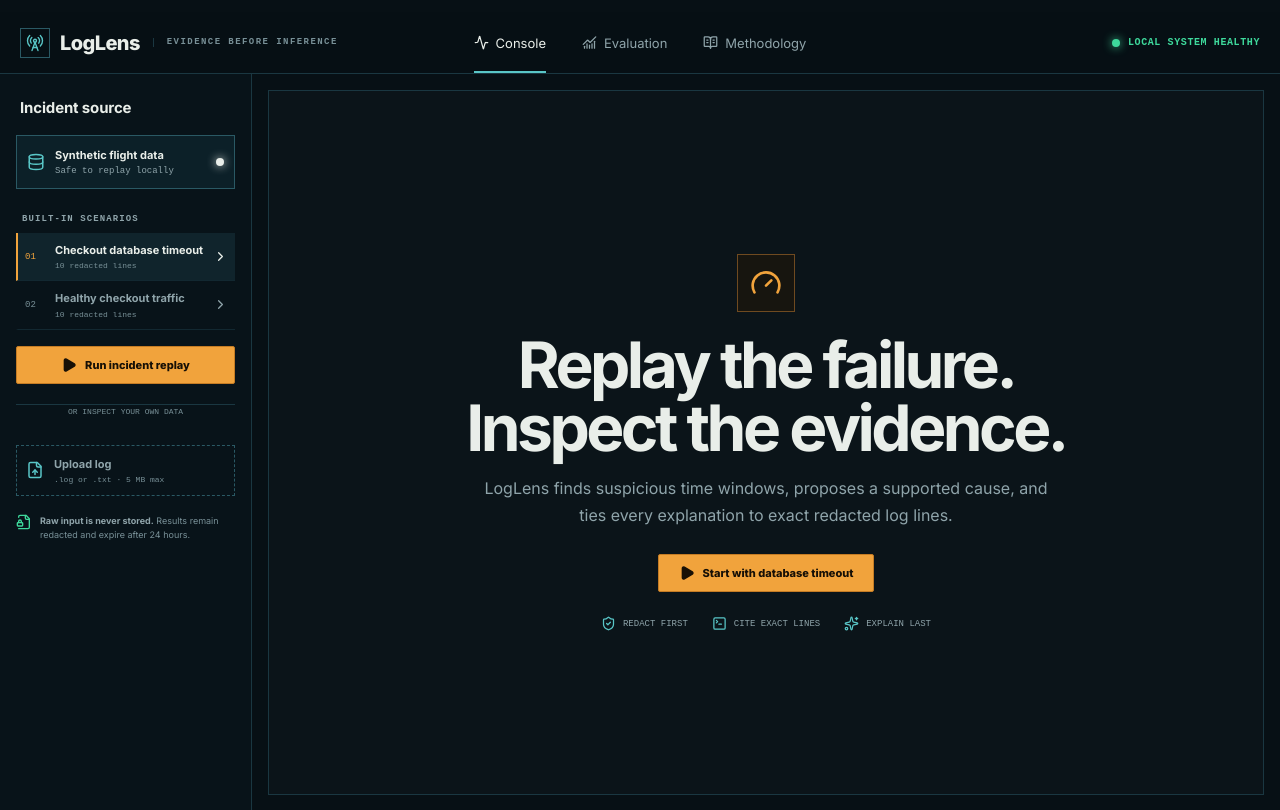
Test: documentation pages › reports measured metrics and navigates without a router dependency
The width and height of the screenshot is (1280, 810).
What coordinates should you click on to do the following:
click the button "Evaluation"
I would click on:
 (625, 42)
Its box is [564,12,685,73].
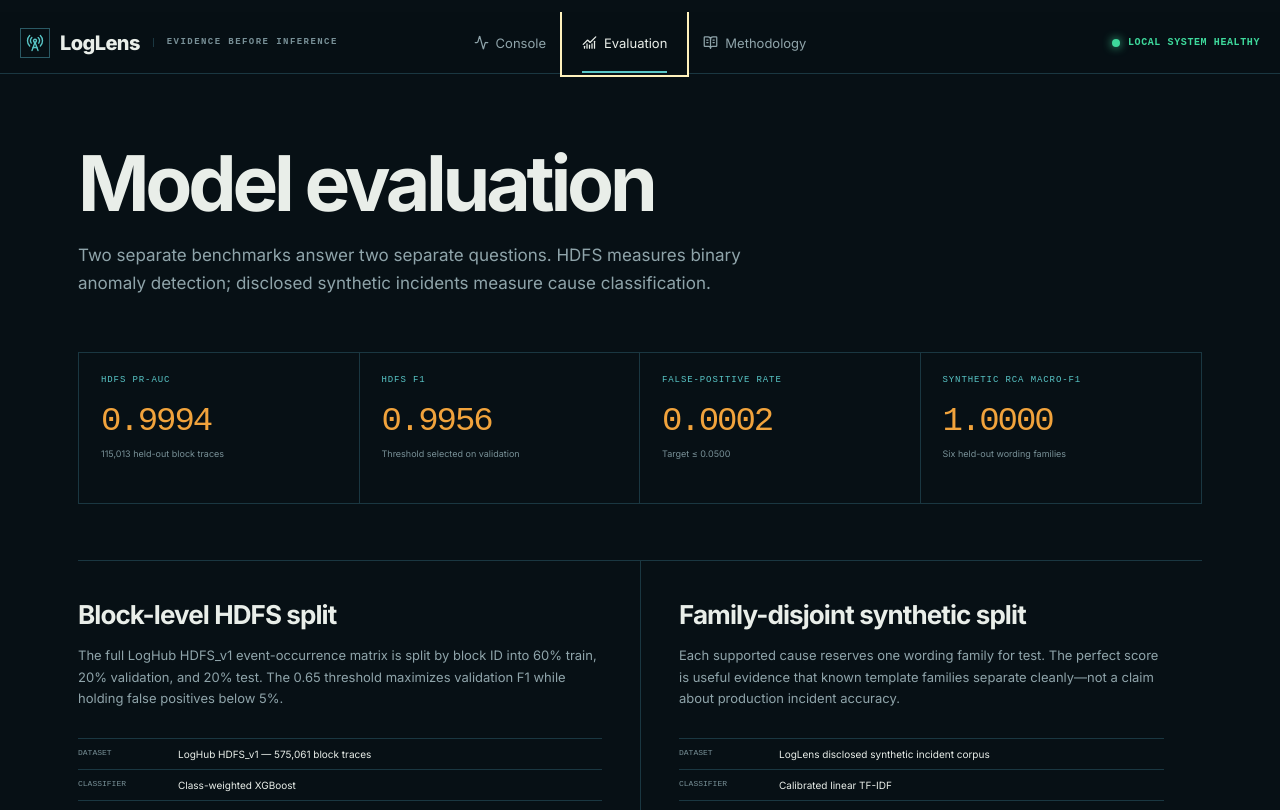
Now the heading "Model evaluation" is shown, box [78,137,654,230]
Now the text "0.9994" is shown, box [101,402,211,440]
What coordinates should you click on to do the following:
click the button "Methodology"
I would click on:
 (755, 42)
Its box is [685,12,824,73].
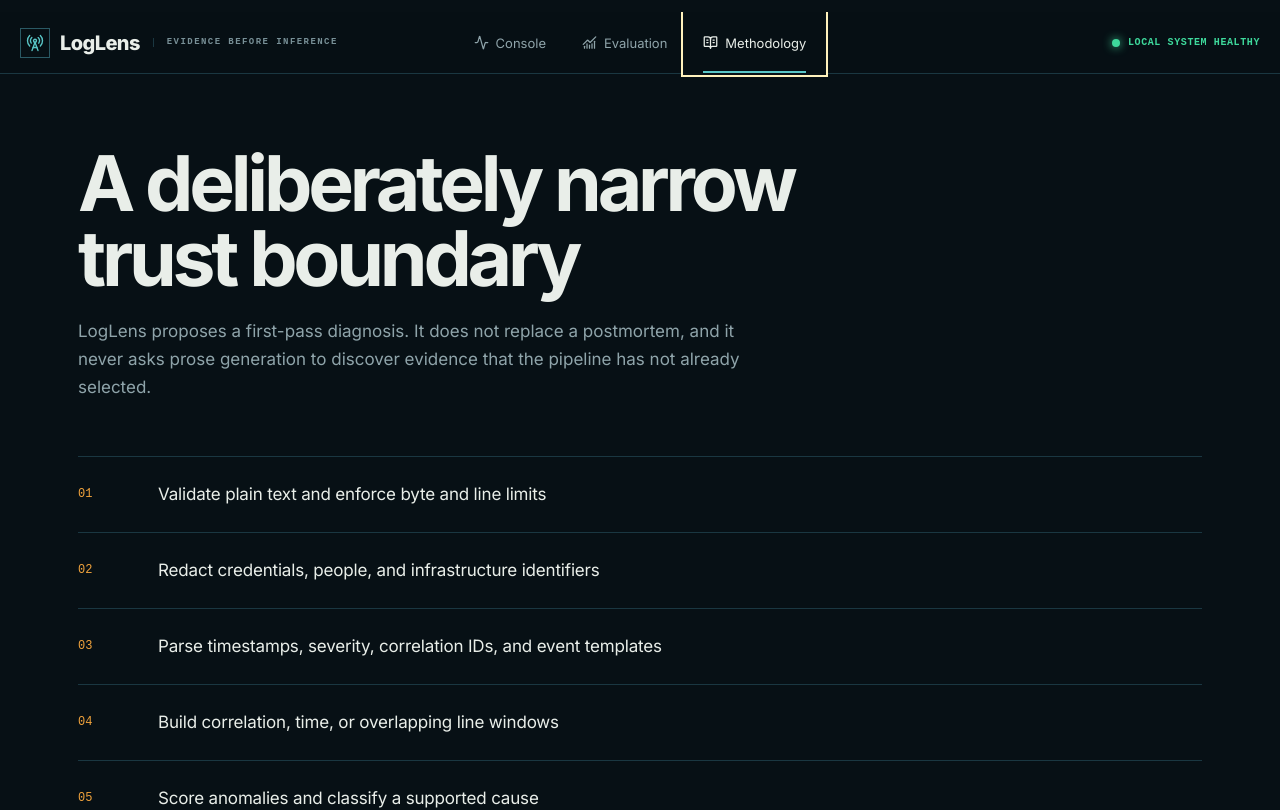
Now the heading "A deliberately narrow trust boundary" is shown, box [78,137,794,305]
